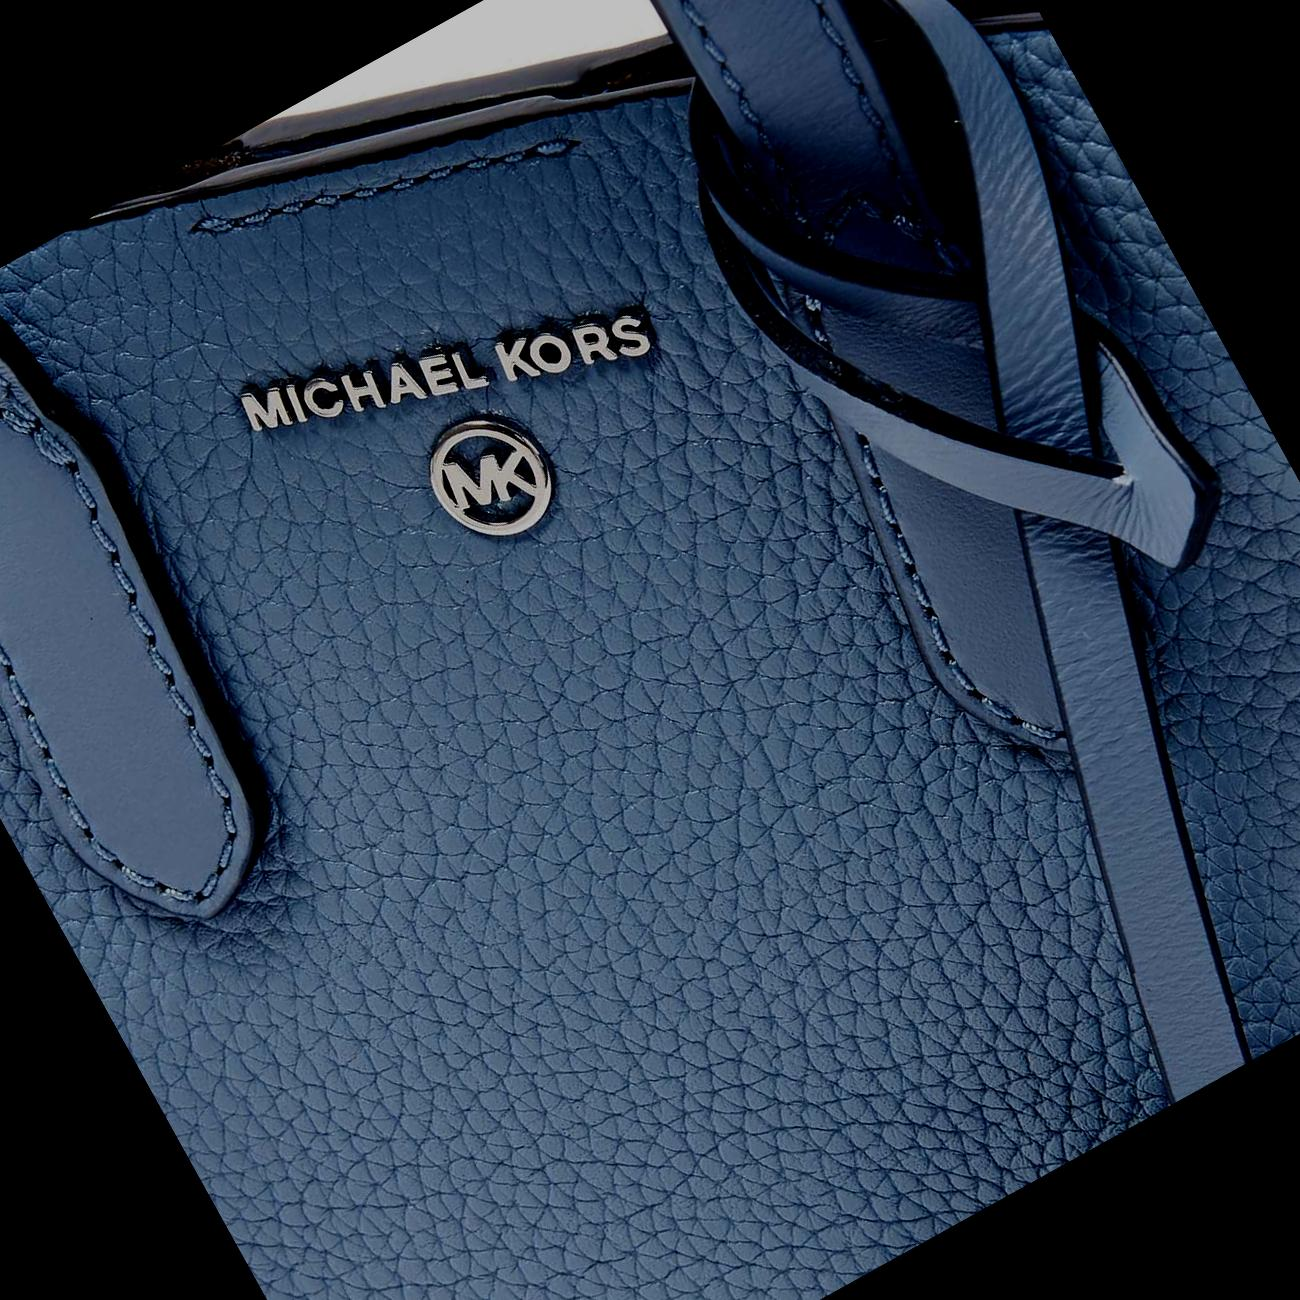MICHAEL-KORS: (232, 205, 657, 539)
